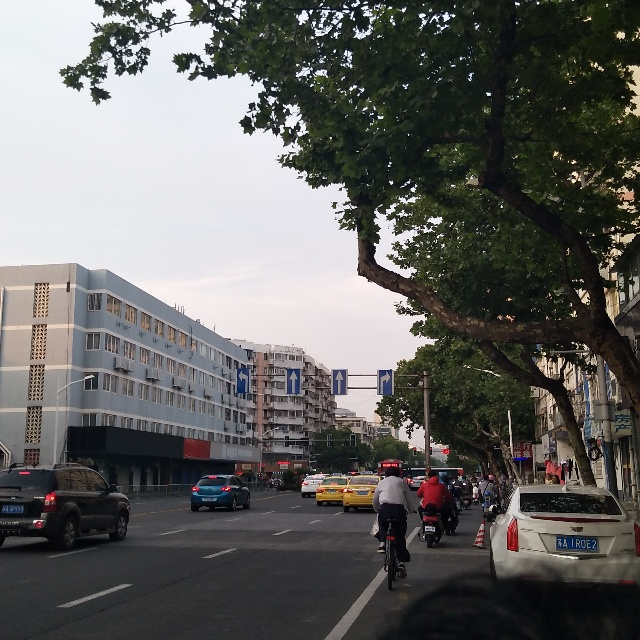left: (235, 368, 252, 393)
right: (377, 370, 394, 395)
straight: (331, 369, 348, 395), (285, 369, 301, 394)
